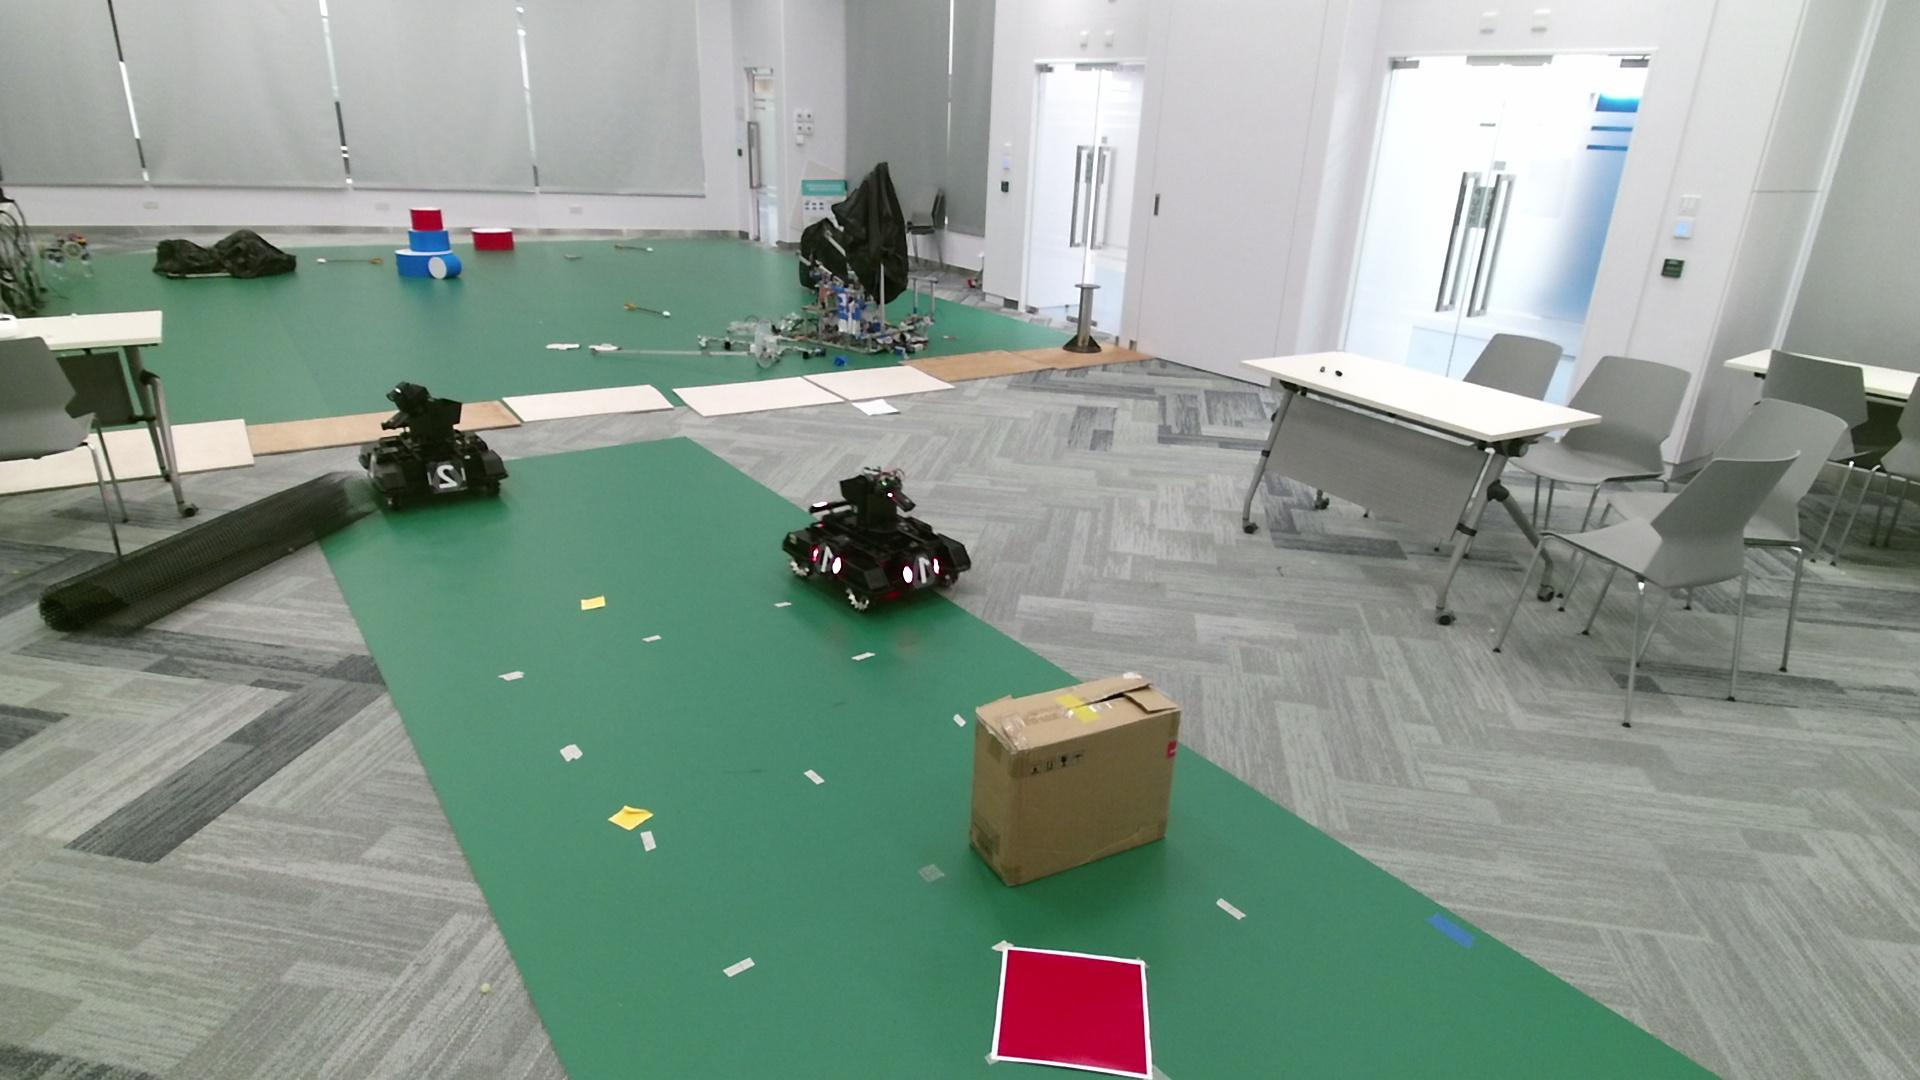robot: (783, 464, 973, 613), (357, 380, 506, 508)
